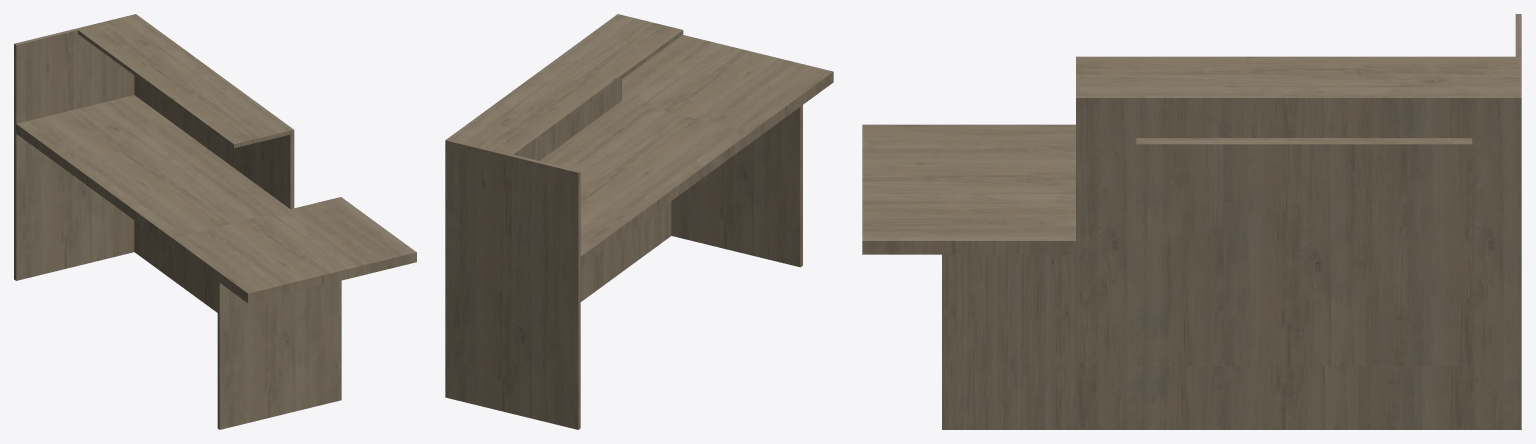
Rendered from res12.glb.
3 renders of one model, left to right at view 1: azimuth 30°, elevation 25°; view 2: azimuth 150°, elevation 25°; view 3: azimuth 270°, elevation 25°, orthographic. The views are drawn at different scales.
Visible parts, largest first — view 1: Box044, Box043, Box047, Box042, Box045, Box041, Box048; view 2: Box043, Box044, Box042, Box047, Box045, Box041, Box048; view 3: Box046, Box041, Box047, Box048, Box045.
Part boxes in pixels (bbox=[...]): Box044: bbox=[16, 95, 289, 247]; Box043: bbox=[14, 28, 134, 280]; Box047: bbox=[172, 197, 416, 303]; Box042: bbox=[217, 281, 337, 429]; Box045: bbox=[76, 15, 290, 148]; Box041: bbox=[133, 14, 294, 312]; Box048: bbox=[338, 280, 341, 400]; Box043: bbox=[449, 140, 580, 429]; Box044: bbox=[449, 101, 750, 266]; Box042: bbox=[671, 105, 802, 267]; Box047: bbox=[622, 35, 833, 142]; Box045: bbox=[449, 15, 683, 159]; Box041: bbox=[445, 14, 621, 398]; Box048: bbox=[622, 201, 671, 271]; Box046: bbox=[1136, 138, 1472, 365]; Box041: bbox=[1076, 95, 1521, 429]; Box047: bbox=[862, 124, 1075, 254]; Box048: bbox=[942, 254, 1075, 429]; Box045: bbox=[1076, 56, 1521, 95].
Size of the model in its own units: 0.9 by 1.2 by 2.16.
Materials: 1 (1 with a texture image).
